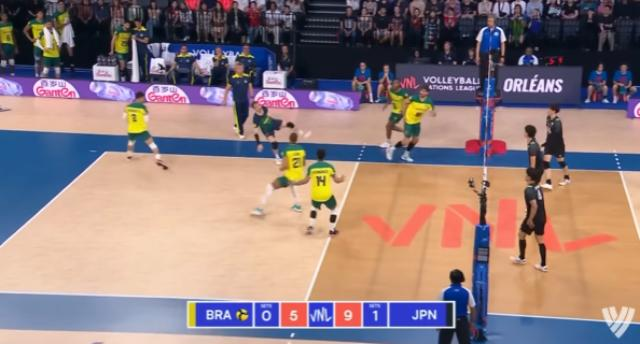Levantador: (286, 134, 352, 244)
Libero: (231, 88, 311, 166)
